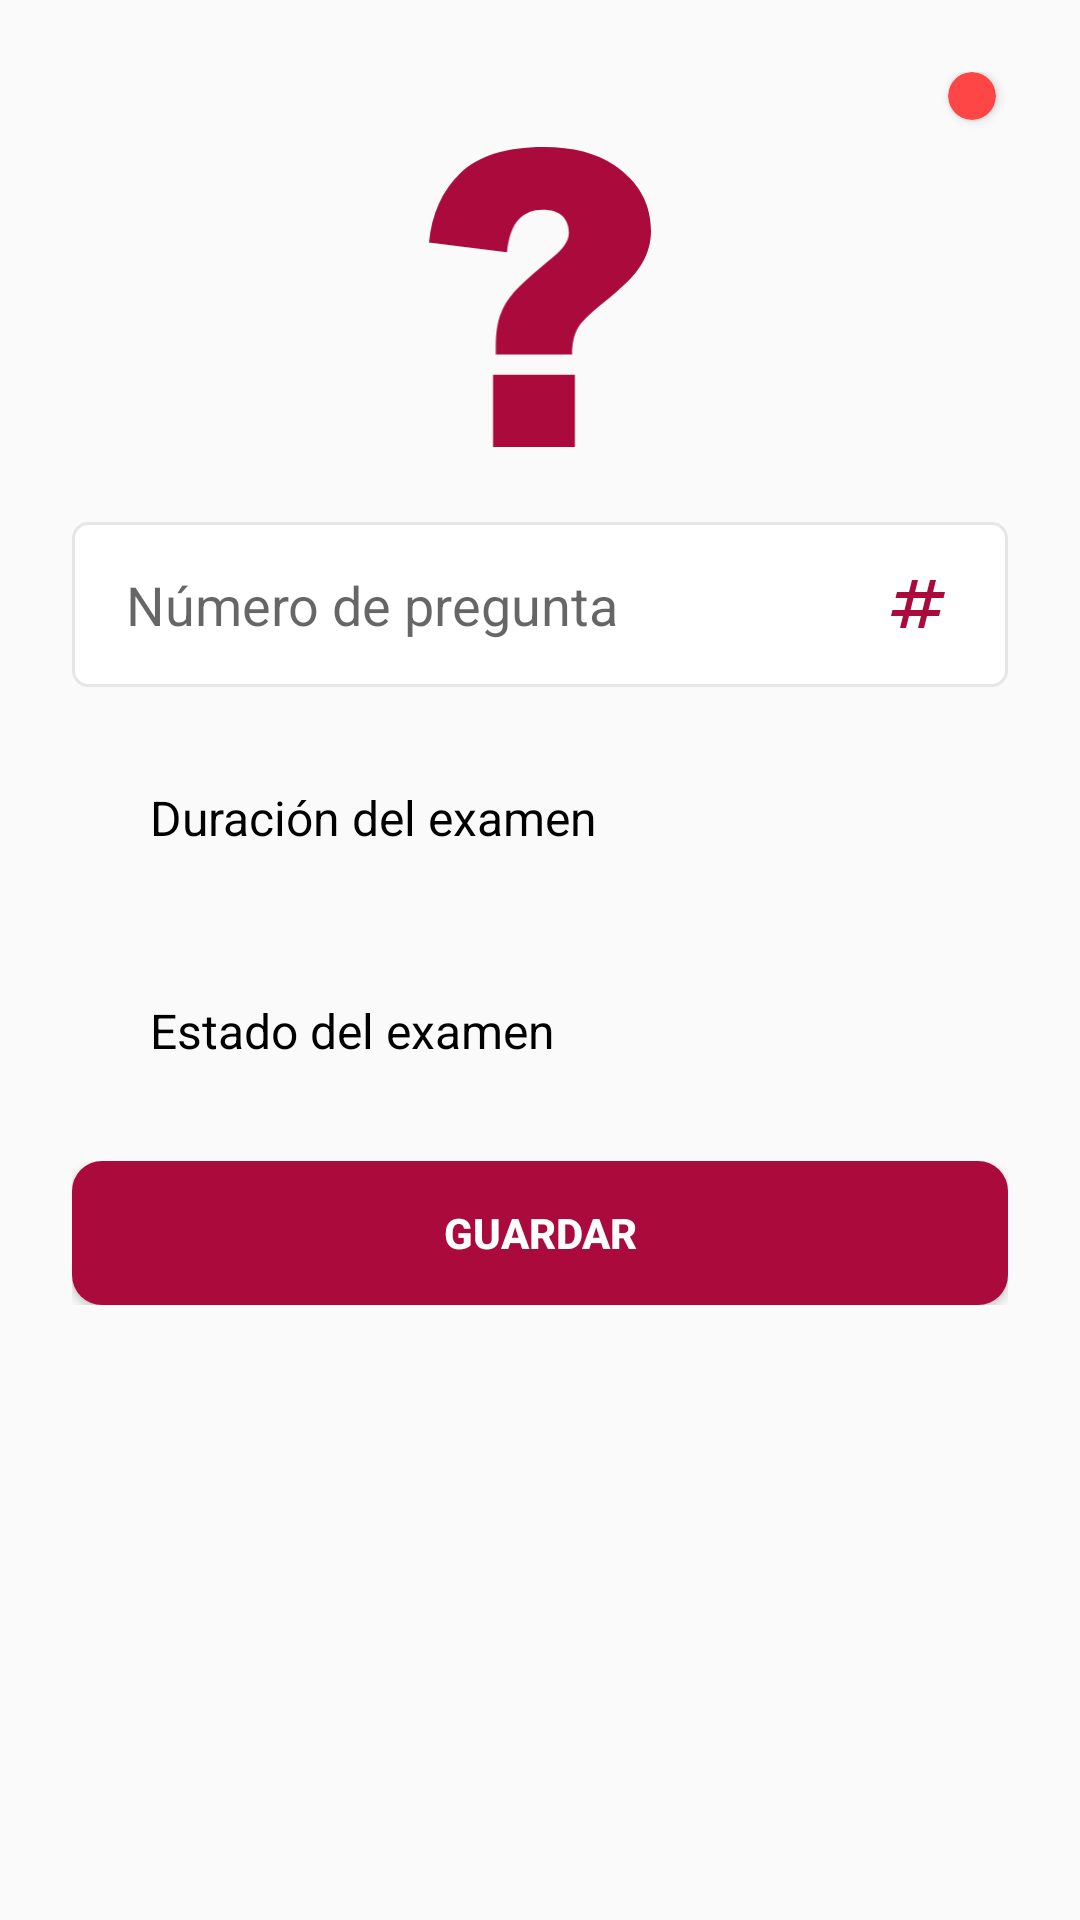

Icon bounding boxes for this 1080×1920 phone screenshot, format (x1, y1, x2, y2):
question mark: (429, 147, 651, 447)
